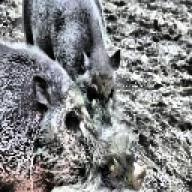boar: (0, 16, 146, 192), (21, 0, 120, 110)
